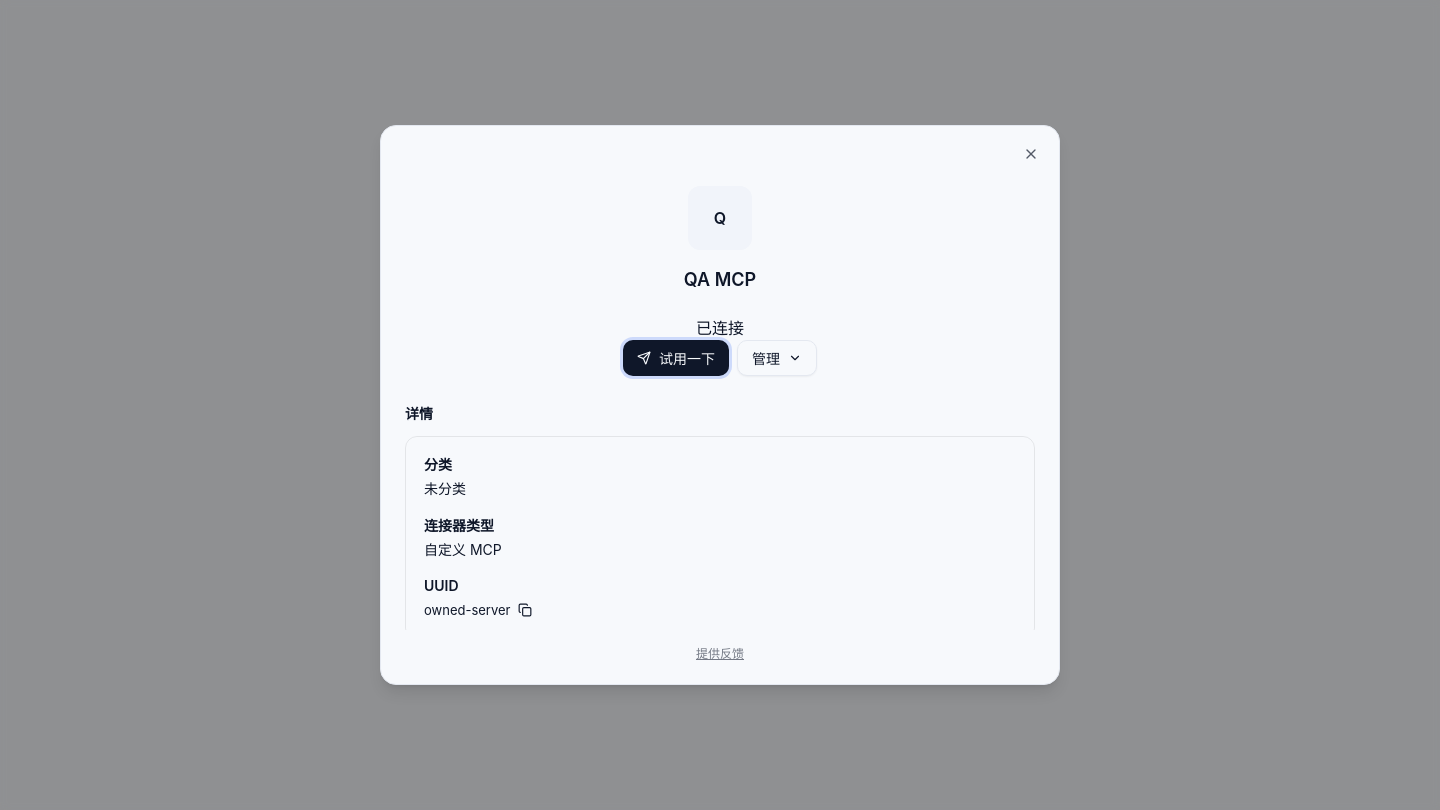
Test case: a refused draft handoff keeps the detail and explains that no trial started
The image size is (1440, 810).
Click the button "试用一下" at (676, 358), box [623, 340, 729, 376]
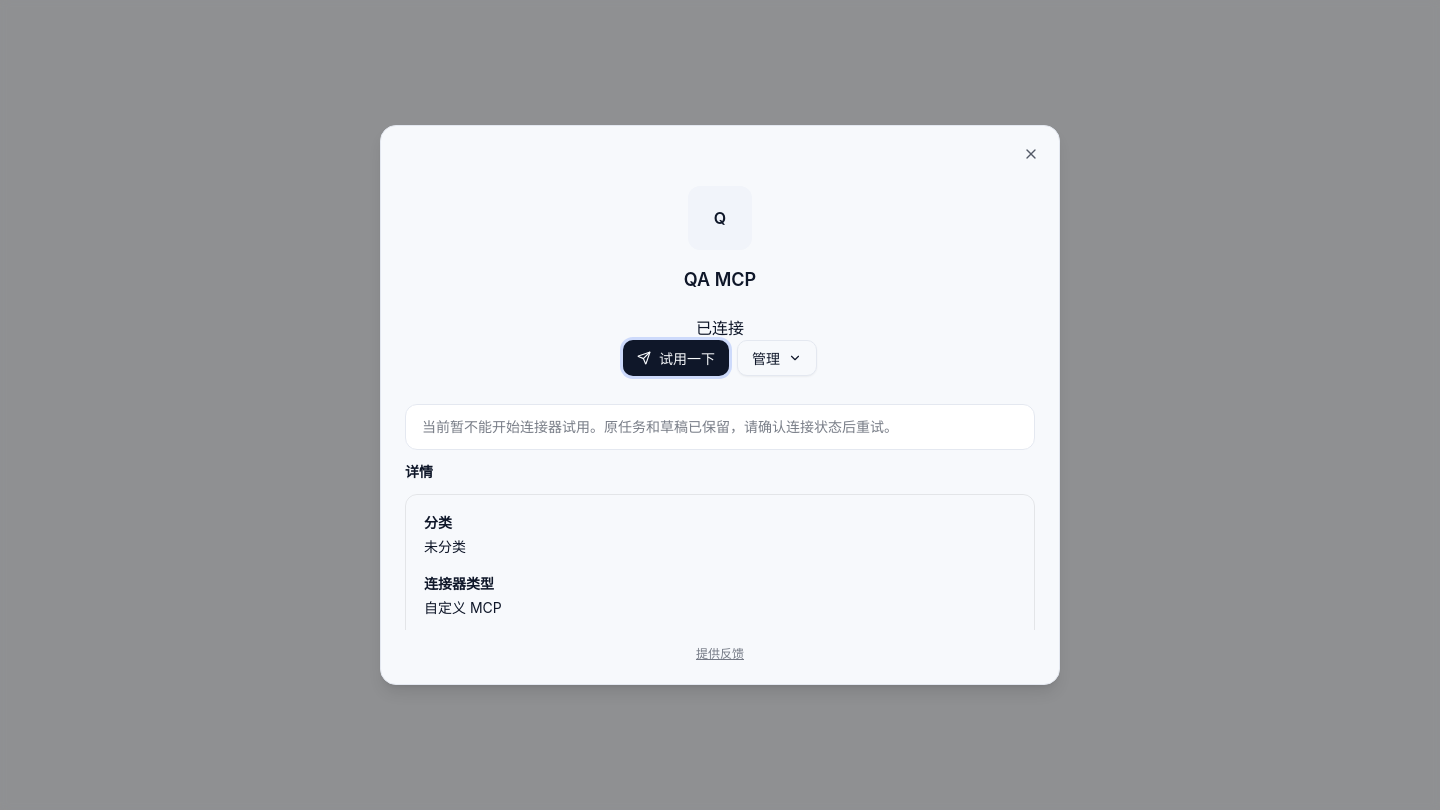
Check: the dialog "QA MCP" is shown, box [380, 125, 1060, 685]
Check: the message shows "试用", box [405, 404, 1035, 450]
